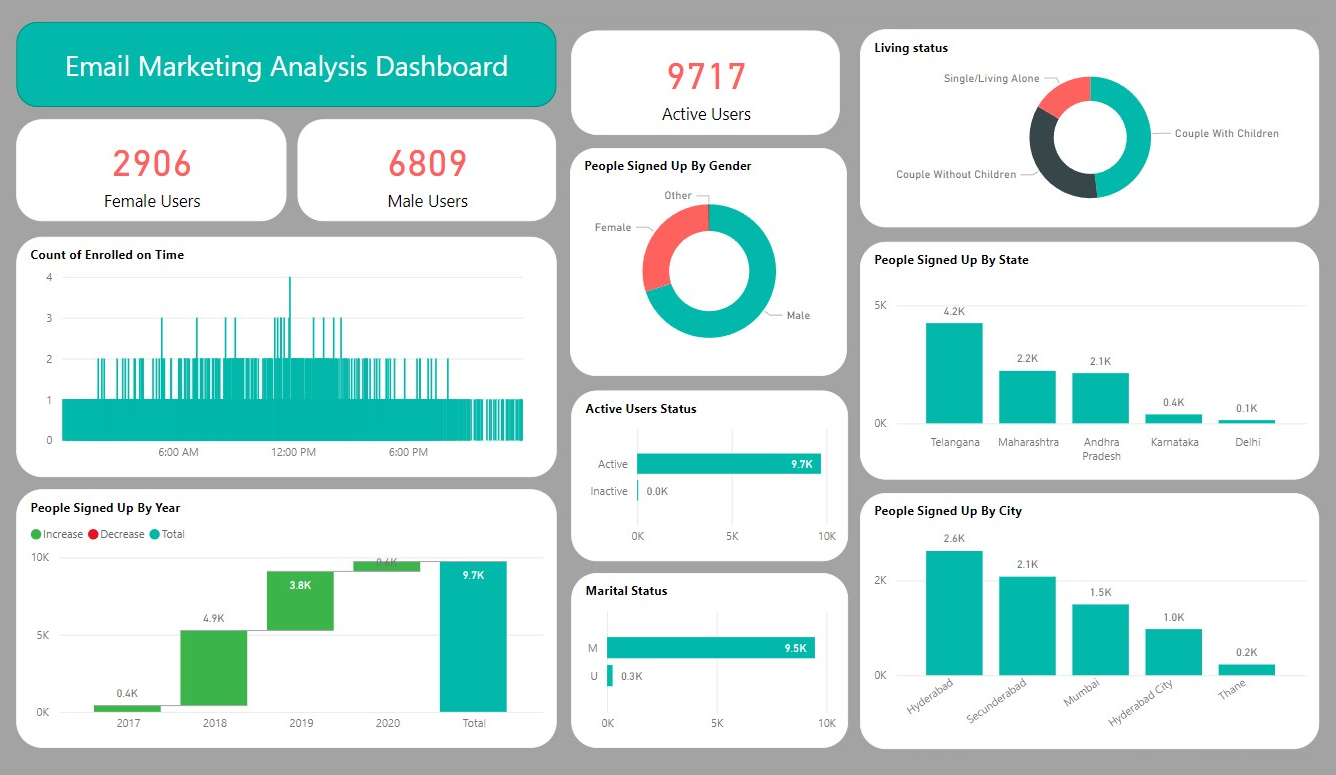

The dashboard page shown, as its layout file describes it:
{"tool":"powerbi","page":{"name":"Page 1","canvas":[1280,720],"ordinal":0},"visuals":[{"type":"group","id":"g1","title":"Group 1","box":[11,8.2,521.4,701.2],"z":0},{"type":"donutChart","title":"People Signed Up By Gender","fields":{"Category":["Email Marketing.Gender"],"Y":["CountNonNull(Email Marketing.Gender)"]},"box":[544.8,130.1,267.6,220.4],"z":0,"group":"g2"},{"type":"group","id":"g2","title":"Group 2","box":[544.8,16.5,269,693],"z":1000},{"type":"barChart","title":"Active Users Status ","fields":{"Category":["Email Marketing.Status"],"Y":["CountNonNull(Email Marketing.Status)"]},"box":[546.2,364.4,267.6,164.9],"z":1000,"group":"g2"},{"type":"group","id":"g3","title":"Group 3","box":[824.7,15.1,443.2,694.3],"z":2000},{"type":"barChart","title":"Marital Status","fields":{"Category":["Email Marketing.Marital Status"],"Y":["CountNonNull(Email Marketing.Marital Status)"]},"box":[546.2,540.4,267.6,169.1],"z":2000,"group":"g2"},{"type":"donutChart","title":" Living status ","fields":{"Category":["Email Marketing.Living status"],"Y":["CountNonNull(Email Marketing.Living status)"]},"box":[824.7,15.1,443.2,191.6],"z":3000,"group":"g3"},{"type":"columnChart","title":"People Signed Up By State","fields":{"Category":["Email Marketing.State"],"Y":["CountNonNull(Email Marketing.State)"]},"box":[824.7,220.3,443.2,229.6],"z":4000,"group":"g3"},{"type":"columnChart","title":"People Signed Up By City","fields":{"Category":["Email Marketing.City"],"Y":["CountNonNull(Email Marketing.City)"]},"box":[824.7,462.1,443.2,247.3],"z":5000,"group":"g3"},{"type":"waterfallChart","title":"People Signed Up By Year","fields":{"Category":["Email Marketing.Date.Variation.Date Hierarchy.Year","Email Marketing.Date.Variation.Date Hierarchy.Quarter","Email Marketing.Date.Variation.Date Hierarchy.Month","Email Marketing.Date.Variation.Date Hierarchy.Day"],"Y":["CountNonNull(Email Marketing.Date)"]},"box":[11,459.7,521.4,249.7],"z":6000,"group":"g1"},{"type":"columnChart","title":"Count of Enrolled on Time","fields":{"Category":["Email Marketing.Time"],"Y":["CountNonNull(Email Marketing.Time)"]},"box":[11,215.4,521.4,231.9],"z":7000,"group":"g1"},{"type":"card","fields":{"Values":["CountNonNull(Email Marketing.Status)"]},"box":[546.2,16.5,259.3,101.2],"z":8000,"group":"g2"},{"type":"card","fields":{"Values":["CountNonNull(Email Marketing.Gender)"]},"box":[11,102.9,260.7,98.8],"z":9000,"group":"g1"},{"type":"card","fields":{"Values":["CountNonNull(Email Marketing.Gender)"]},"box":[282.7,102.9,249.7,98.8],"z":10000,"group":"g1"},{"type":"shape","title":"Email","box":[11,8.2,521.4,82.3],"z":11000,"group":"g1"}]}

Visuals, with their boxes in screenshot pixels (x1, y1, x2, y2):
"Group 1" group: {"x1": 18, "y1": 22, "x2": 555, "y2": 744}
"People Signed Up By Gender" donutChart: {"x1": 568, "y1": 148, "x2": 843, "y2": 375}
"Group 2" group: {"x1": 568, "y1": 31, "x2": 845, "y2": 744}
"Active Users Status " barChart: {"x1": 569, "y1": 389, "x2": 845, "y2": 559}
"Group 3" group: {"x1": 856, "y1": 29, "x2": 1312, "y2": 744}
"Marital Status" barChart: {"x1": 569, "y1": 570, "x2": 845, "y2": 744}
" Living status " donutChart: {"x1": 856, "y1": 29, "x2": 1312, "y2": 227}
"People Signed Up By State" columnChart: {"x1": 856, "y1": 241, "x2": 1312, "y2": 477}
"People Signed Up By City" columnChart: {"x1": 856, "y1": 490, "x2": 1312, "y2": 744}
"People Signed Up By Year" waterfallChart: {"x1": 18, "y1": 487, "x2": 555, "y2": 744}
"Count of Enrolled on Time" columnChart: {"x1": 18, "y1": 236, "x2": 555, "y2": 474}
card - CountNonNull(Email Marketing.Status): {"x1": 569, "y1": 31, "x2": 836, "y2": 135}
card - CountNonNull(Email Marketing.Gender): {"x1": 18, "y1": 120, "x2": 287, "y2": 222}
card - CountNonNull(Email Marketing.Gender): {"x1": 298, "y1": 120, "x2": 555, "y2": 222}
"Email" shape: {"x1": 18, "y1": 22, "x2": 555, "y2": 107}
